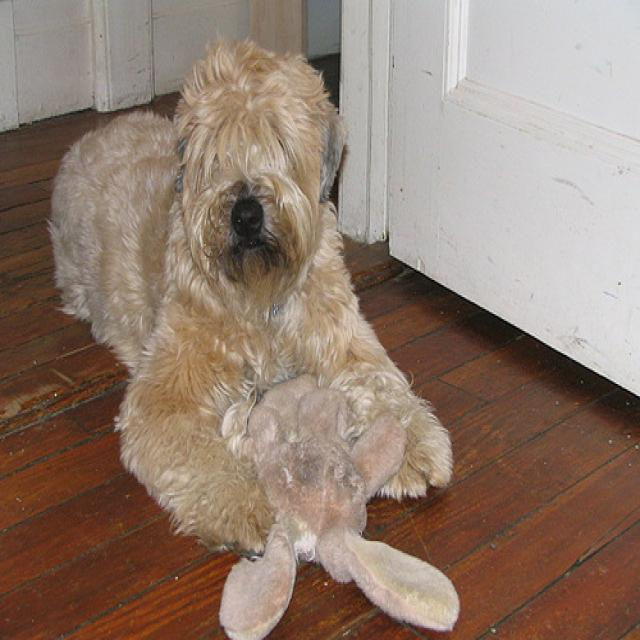dog-wheaten_terrier: (38, 24, 453, 546)
